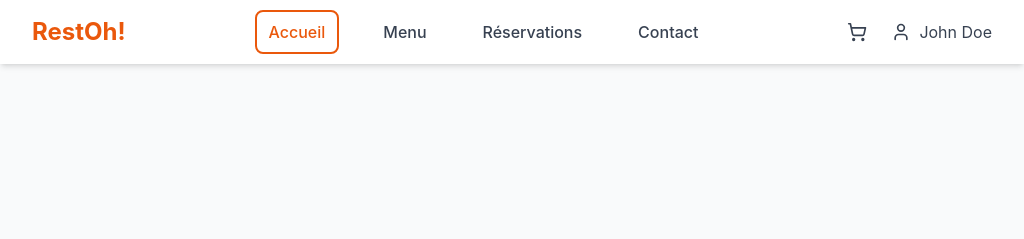
Test: Header Component › User Menu Interactions › should open and close user dropdown menu when button clicked
Expected: the link "Mon Profil" is not shown
# Open menu
Click the button "John Doe".
click(942, 32)  # box x1=891 y1=20 x2=992 y2=44
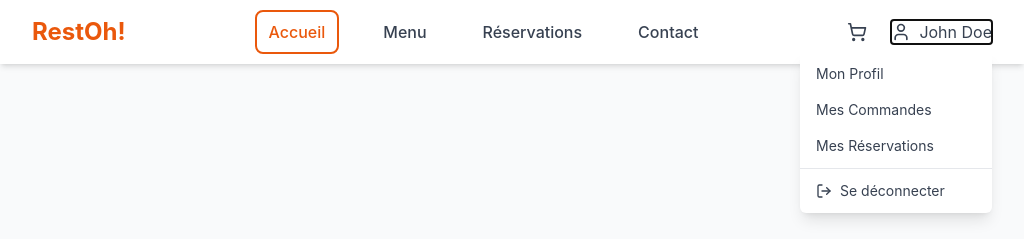
Expected: the link "Mon Profil" is shown, x1=816 y1=65 x2=884 y2=82
Expected: the link "Mes Commandes" is shown, x1=816 y1=101 x2=932 y2=118
Expected: the link "Mes Réservations" is shown, x1=816 y1=137 x2=934 y2=154
# Close menu by clicking button again
Click the button "John Doe".
click(942, 32)  # box x1=891 y1=20 x2=992 y2=44
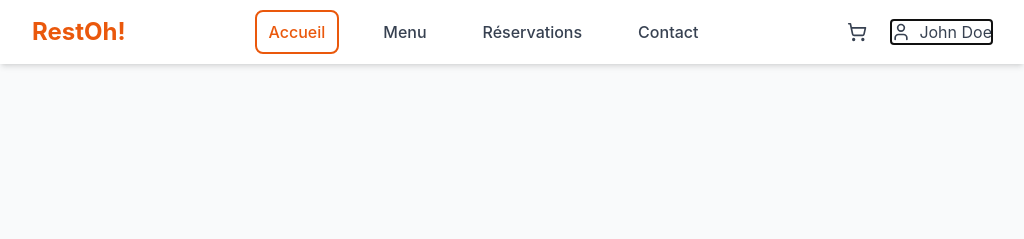
Expected: the link "Mon Profil" is gone
